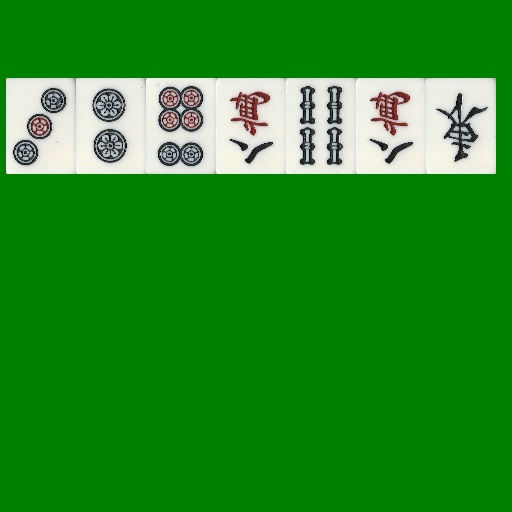2p: (76, 78, 146, 174)
3p: (6, 78, 76, 174)
4s: (286, 78, 356, 174)
6p: (146, 78, 216, 174)
8m: (216, 78, 286, 174), (356, 78, 426, 174)
east: (426, 78, 496, 174)
